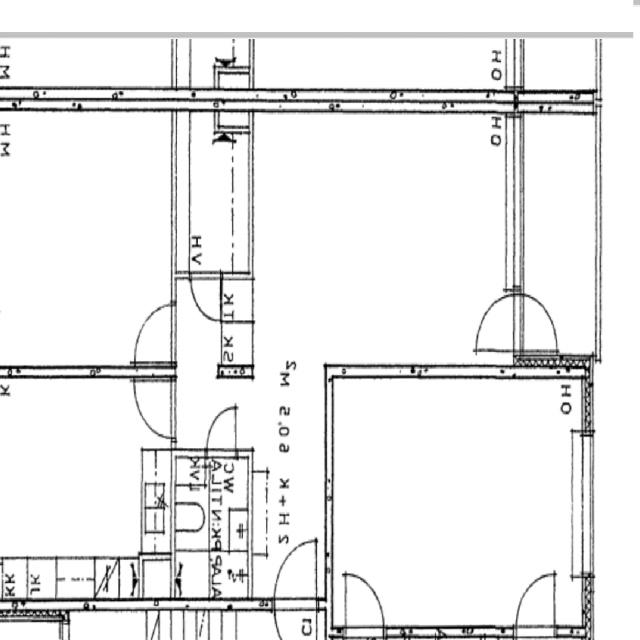door: (274, 536, 316, 610), (474, 294, 525, 352), (513, 294, 564, 352), (132, 304, 177, 362), (132, 380, 177, 437), (275, 597, 317, 640), (207, 406, 236, 458), (192, 272, 220, 321)
